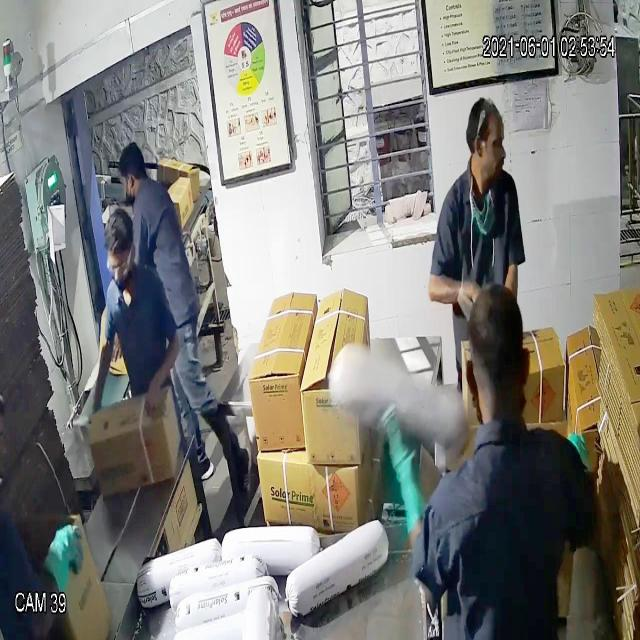glasses: (101, 240, 136, 283)
no-glass: (468, 125, 510, 162)
